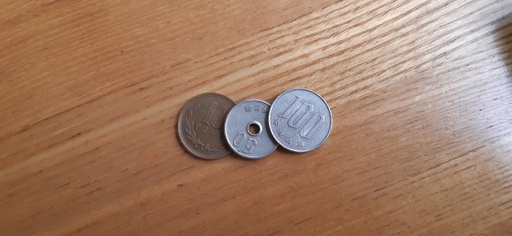100yen: (267, 90, 332, 153)
10yen: (178, 94, 241, 159)
50yen: (224, 99, 280, 159)
